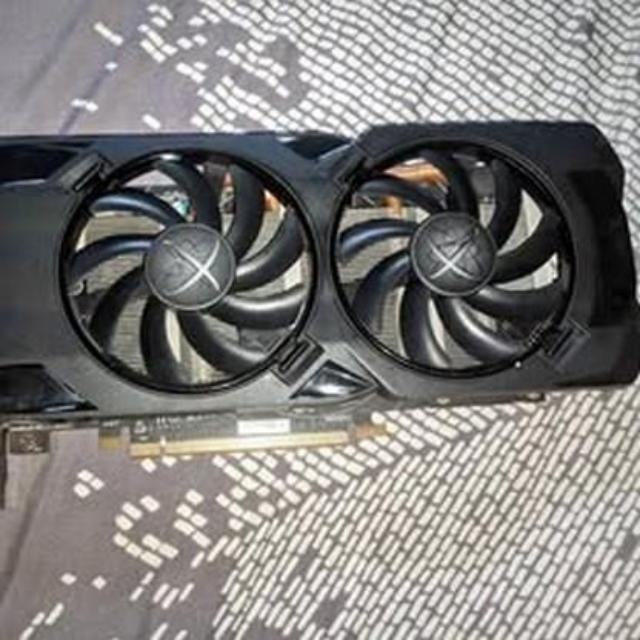GPU: (0, 103, 640, 477)
